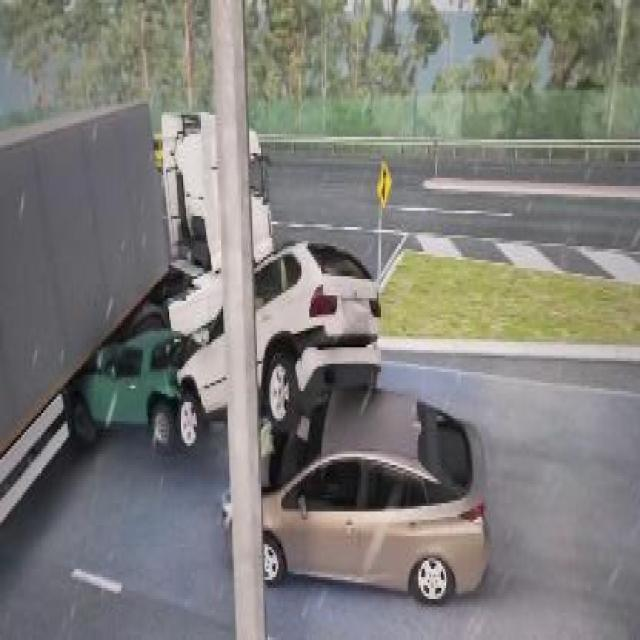accident: (0, 73, 272, 525), (172, 222, 492, 602), (59, 232, 382, 440)
